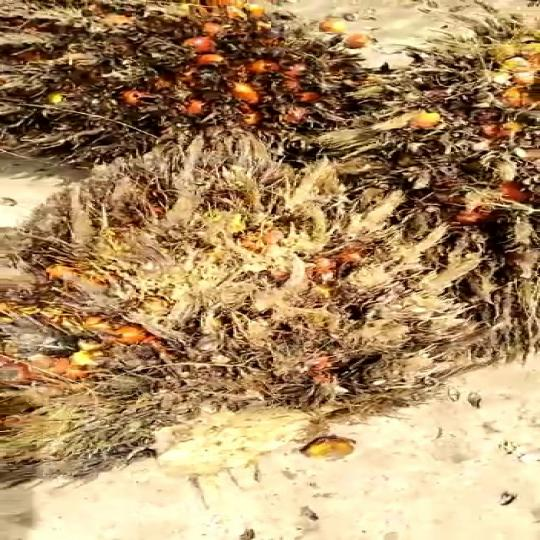terlalu masak: (8, 137, 504, 410), (0, 13, 405, 177)
